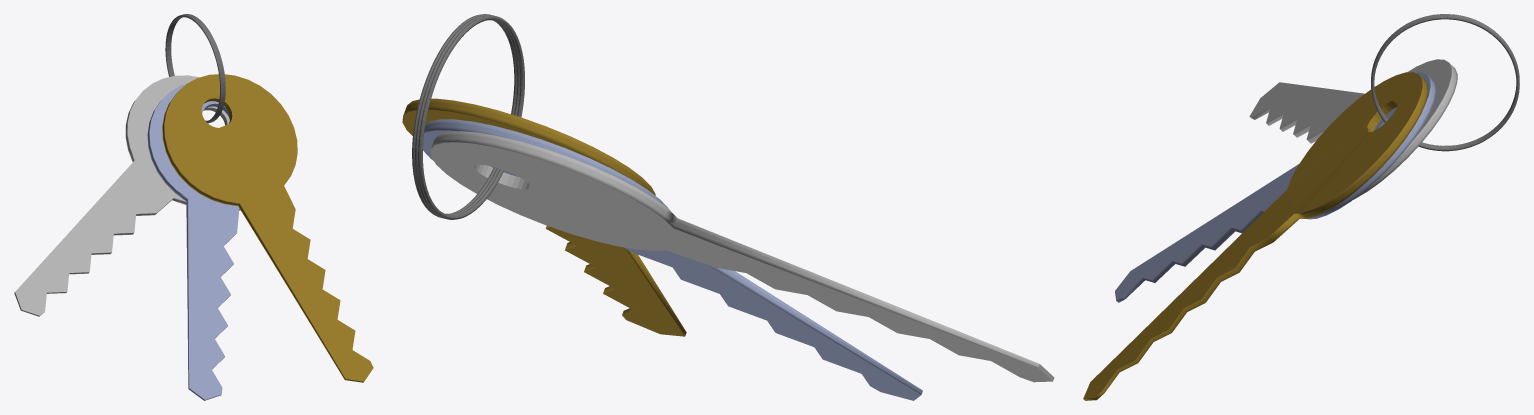
The model's file is Chave.glb.
The picture shows the model from 3 angles, left to right: view 1: azimuth 30°, elevation 25°; view 2: azimuth 150°, elevation 25°; view 3: azimuth 270°, elevation 25°; orthographic projection. The views are drawn at different scales.
Visible parts, largest first — view 1: Circle, Circle.002, Circle.001, Circle.004; view 2: Circle.002, Circle.001, Circle, Circle.004; view 3: Circle, Circle.001, Circle.002, Circle.004.
Part boxes in pixels (bbox=[...]): Circle: bbox=[162, 74, 373, 382]; Circle.002: bbox=[14, 75, 229, 316]; Circle.001: bbox=[147, 83, 240, 400]; Circle.004: bbox=[165, 14, 225, 123]; Circle.002: bbox=[430, 131, 1054, 382]; Circle.001: bbox=[423, 119, 922, 400]; Circle: bbox=[402, 98, 686, 336]; Circle.004: bbox=[412, 14, 524, 219]; Circle: bbox=[1083, 72, 1428, 400]; Circle.001: bbox=[1115, 72, 1436, 302]; Circle.002: bbox=[1249, 59, 1457, 199]; Circle.004: bbox=[1371, 14, 1519, 151].
Size of the model in its own units: 0.6898 by 0.5895 by 0.64.
